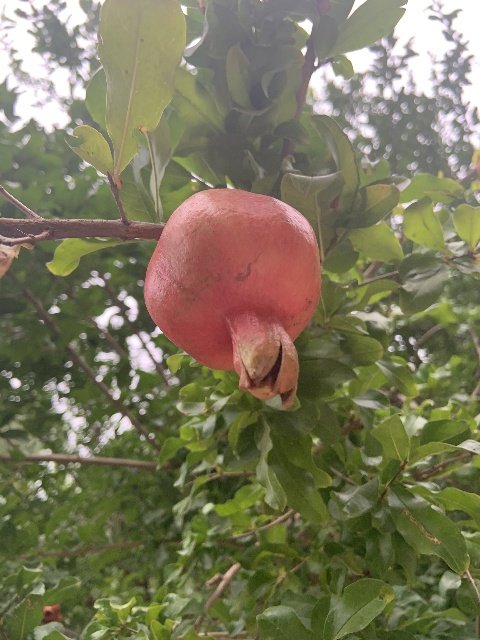ripe: (144, 188, 322, 409)
